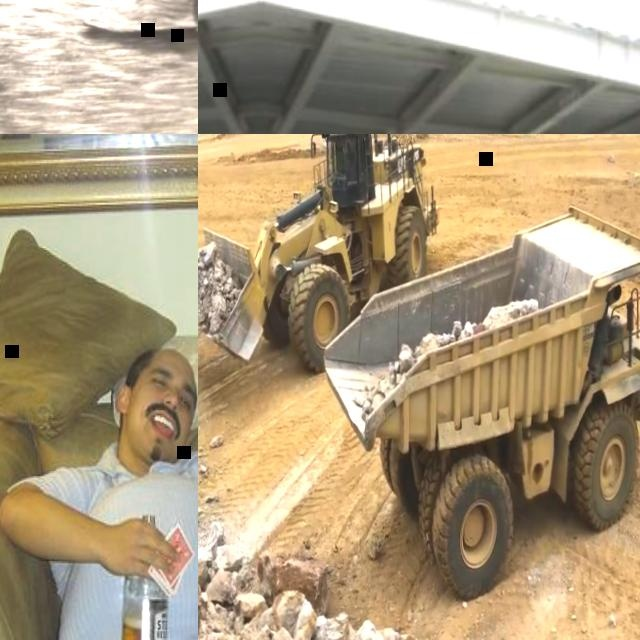NO-Hardhat: (131, 348, 197, 377)
NO-Mask: (116, 382, 189, 459)
NO-Safety Vest: (56, 443, 198, 640), (0, 0, 198, 134)
Person: (0, 342, 198, 640), (0, 0, 198, 134)
machinery: (317, 199, 640, 607), (198, 134, 442, 381)
